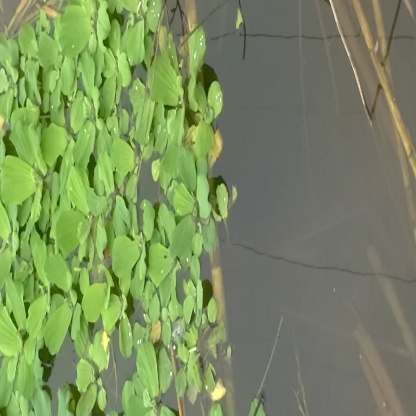branch: (331, 3, 416, 178)
